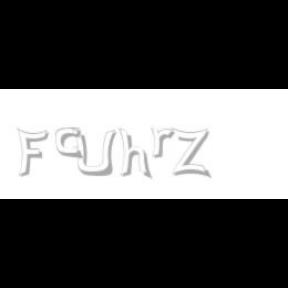F: (16, 128, 48, 178)
U: (70, 128, 116, 178)
Z: (172, 128, 210, 178)
c: (55, 128, 84, 160)
h: (118, 128, 153, 180)
r: (150, 128, 178, 158)
